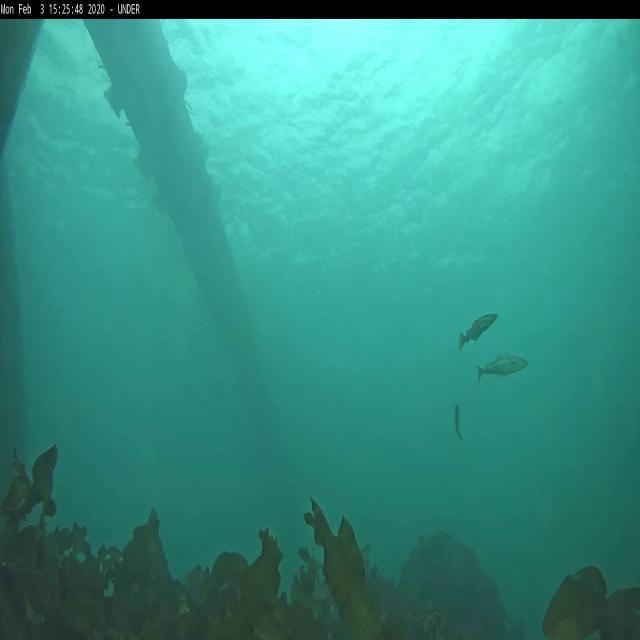fish: (474, 352, 528, 380), (458, 313, 498, 348), (454, 402, 466, 442)
